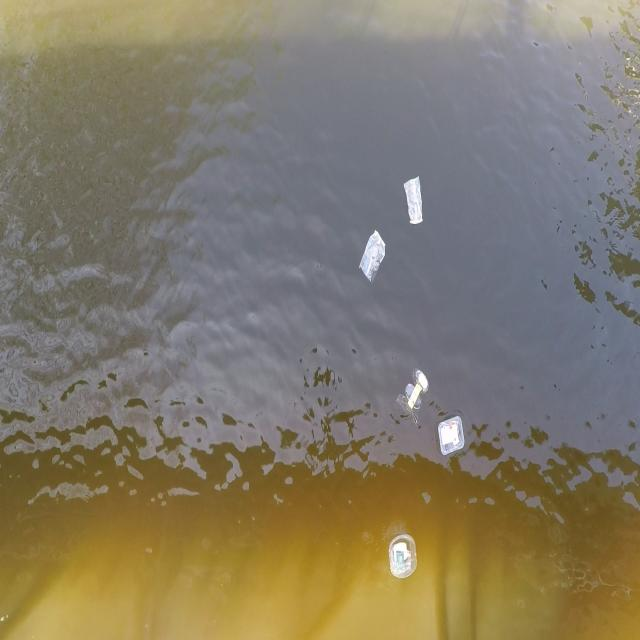Autre plastique: (396, 364, 430, 432), (387, 536, 420, 582), (435, 414, 468, 458)
Sac plastique: (359, 229, 388, 287), (401, 174, 427, 231)
